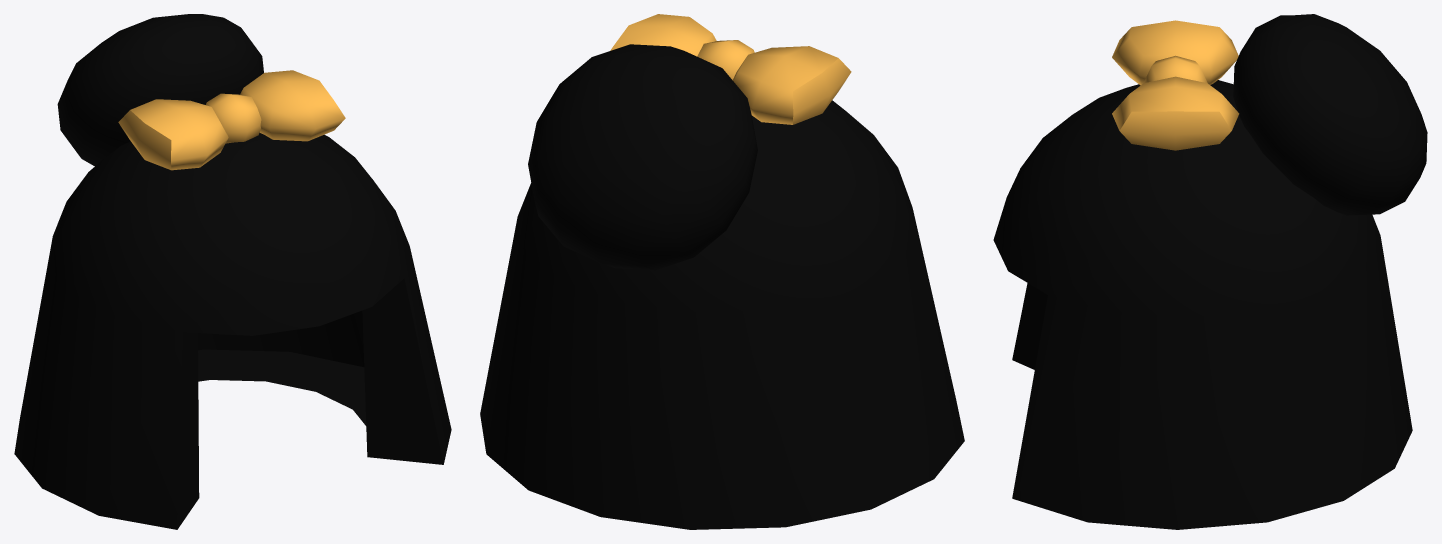
The model's file is Hair_09.fbx.
3 renders of one model, left to right at view 1: azimuth 30°, elevation 25°; view 2: azimuth 150°, elevation 25°; view 3: azimuth 270°, elevation 25°, orthographic. The views are drawn at different scales.
Visible parts, largest first — view 1: Hair_09; view 2: Hair_09; view 3: Hair_09.
Part boxes in pixels (box(x1,y1,x2,y2)): Hair_09: box(14, 14, 451, 529); Hair_09: box(480, 14, 964, 529); Hair_09: box(993, 14, 1427, 529).
Bounding box in the file's own units: 137 × 130 × 127.
